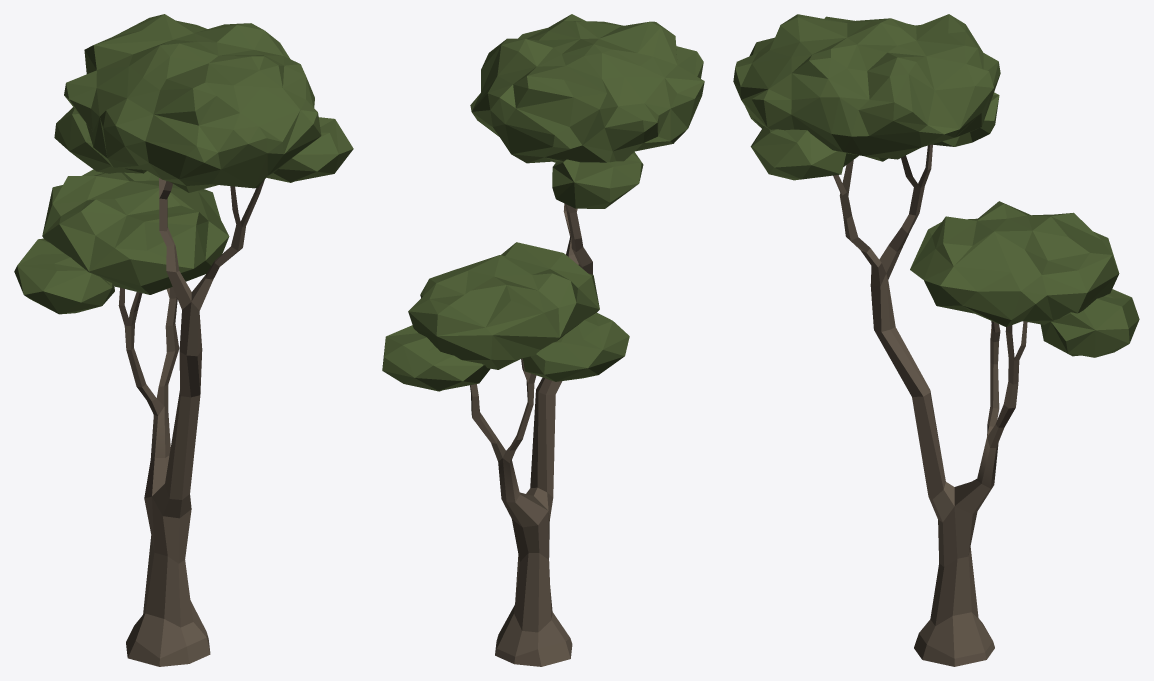
File: tree_3.fbx
3 views of the same model, side by side, from view 1: azimuth 30°, elevation 25°; view 2: azimuth 150°, elevation 25°; view 3: azimuth 270°, elevation 25° (orthographic). The views are drawn at different scales.
Visible parts, largest first — view 1: tree_003; view 2: tree_003; view 3: tree_003.
Part boxes in pixels (x1=…): tree_003: x1=14, y1=14, x2=353, y2=666; tree_003: x1=382, y1=14, x2=704, y2=666; tree_003: x1=733, y1=14, x2=1139, y2=666.
Size of the model in its own units: 0.4953 by 1.39 by 0.8346.
Materials: 1 (1 with a texture image).
